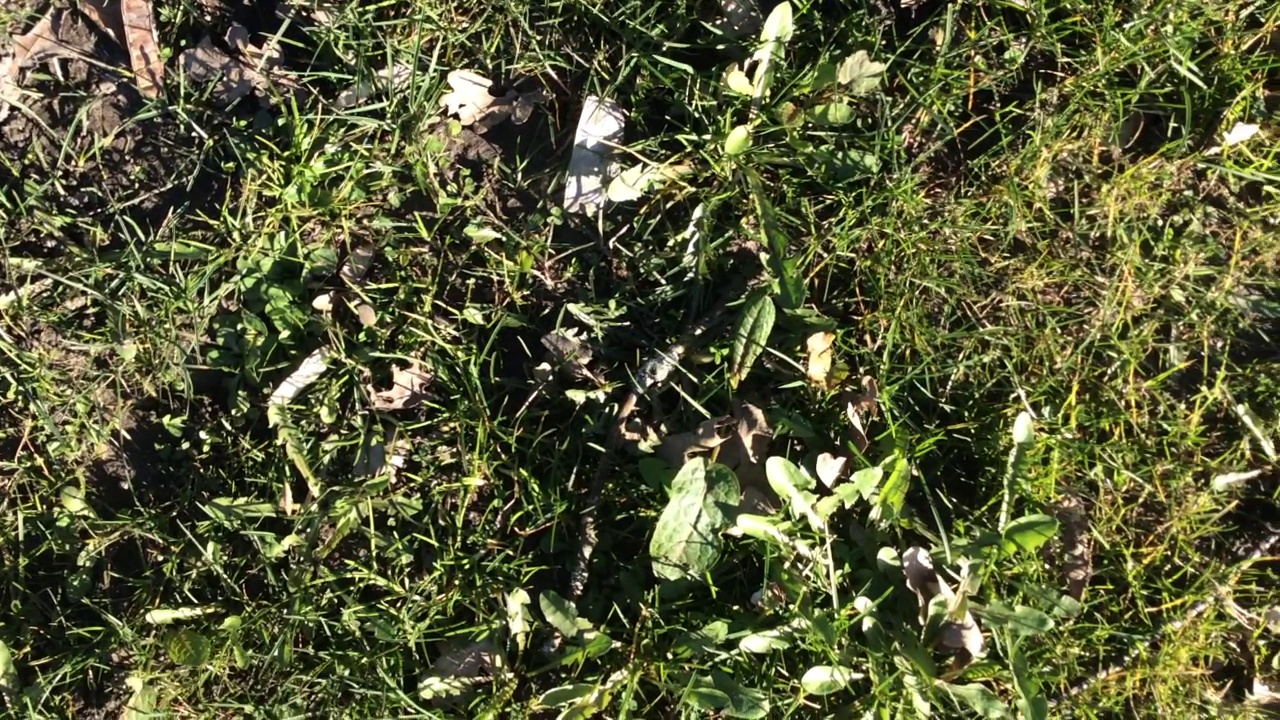rumex: (650, 457, 739, 604), (729, 293, 776, 391)
